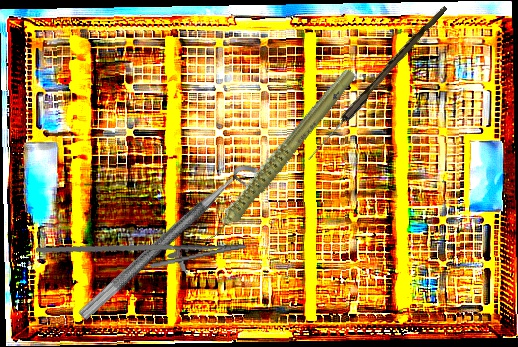Fixation Ring: (76, 157, 270, 335)
Handpiece: (166, 64, 387, 249)
Needle Holder: (35, 217, 249, 295)
Surgical Spoon: (305, 2, 448, 164)
